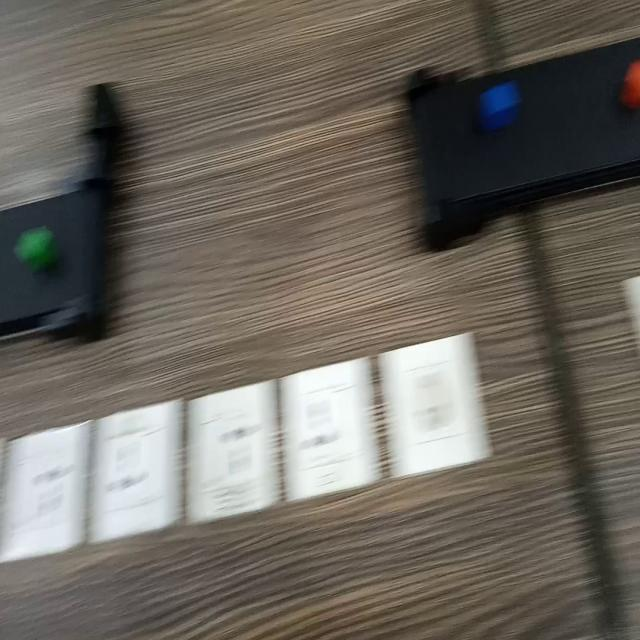cube: (477, 69, 529, 136), (11, 220, 63, 276)
